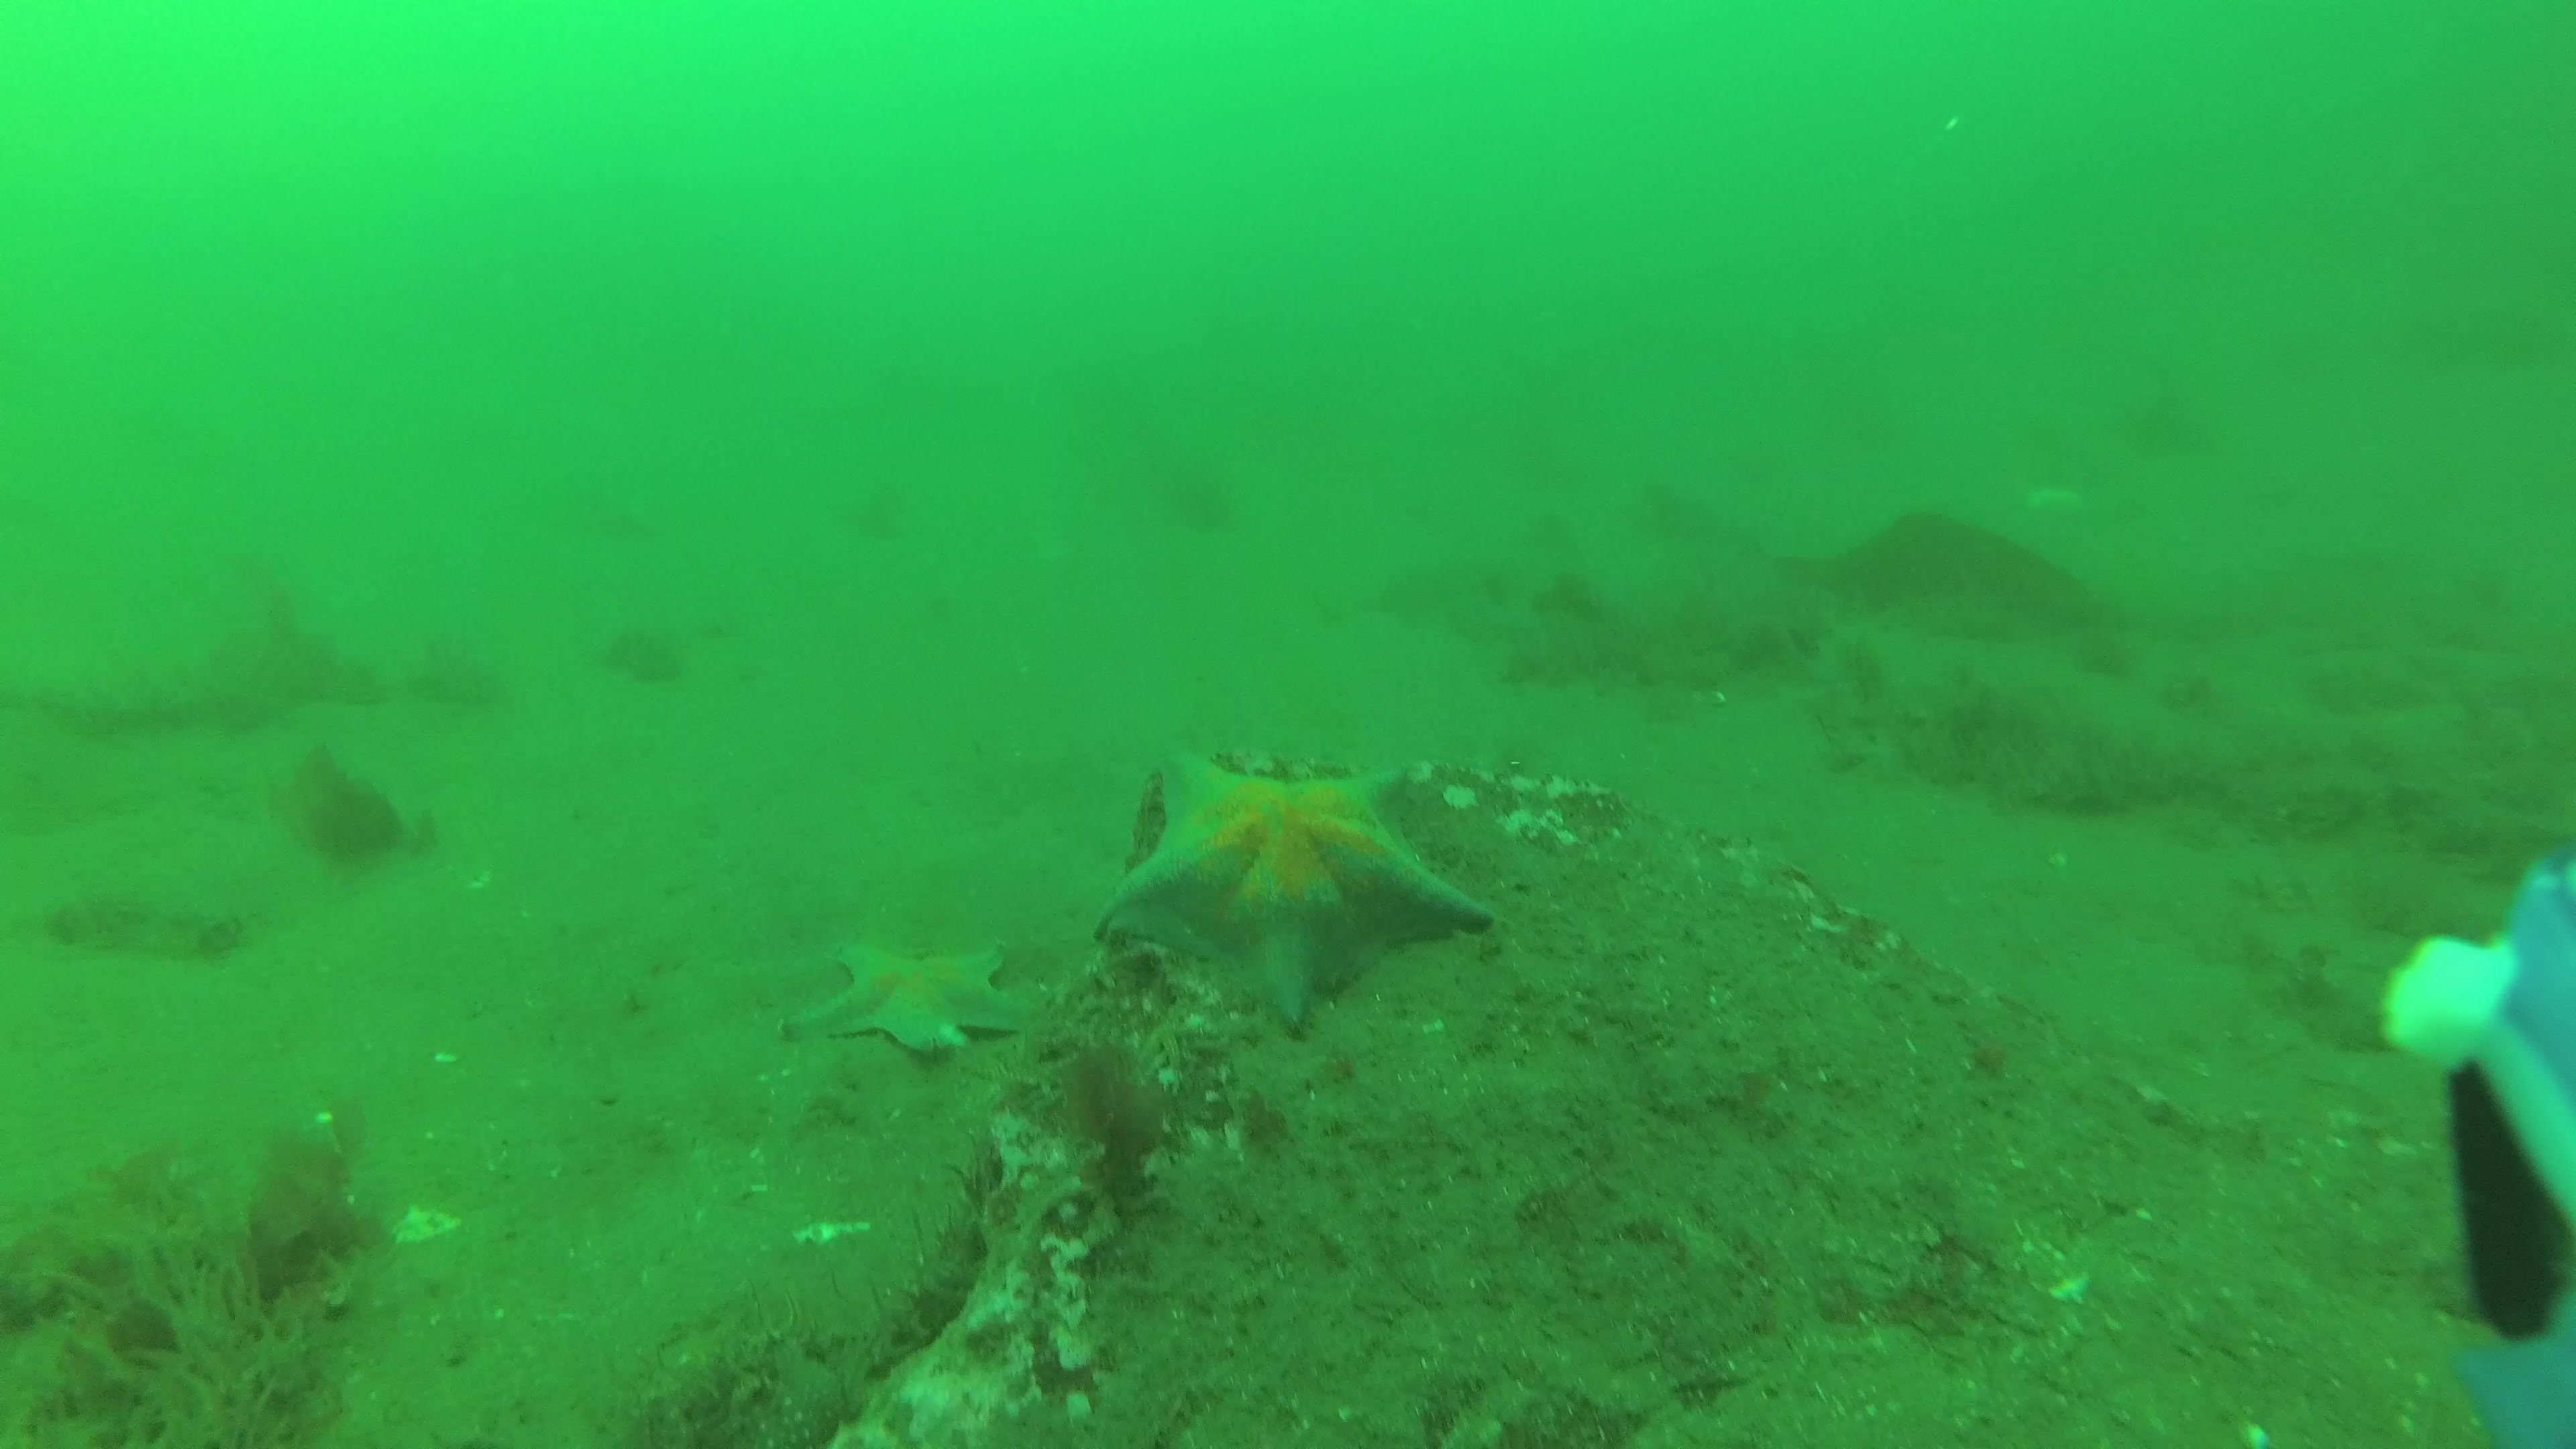starfish: (1097, 754, 1499, 1030), (789, 938, 1054, 1053)
